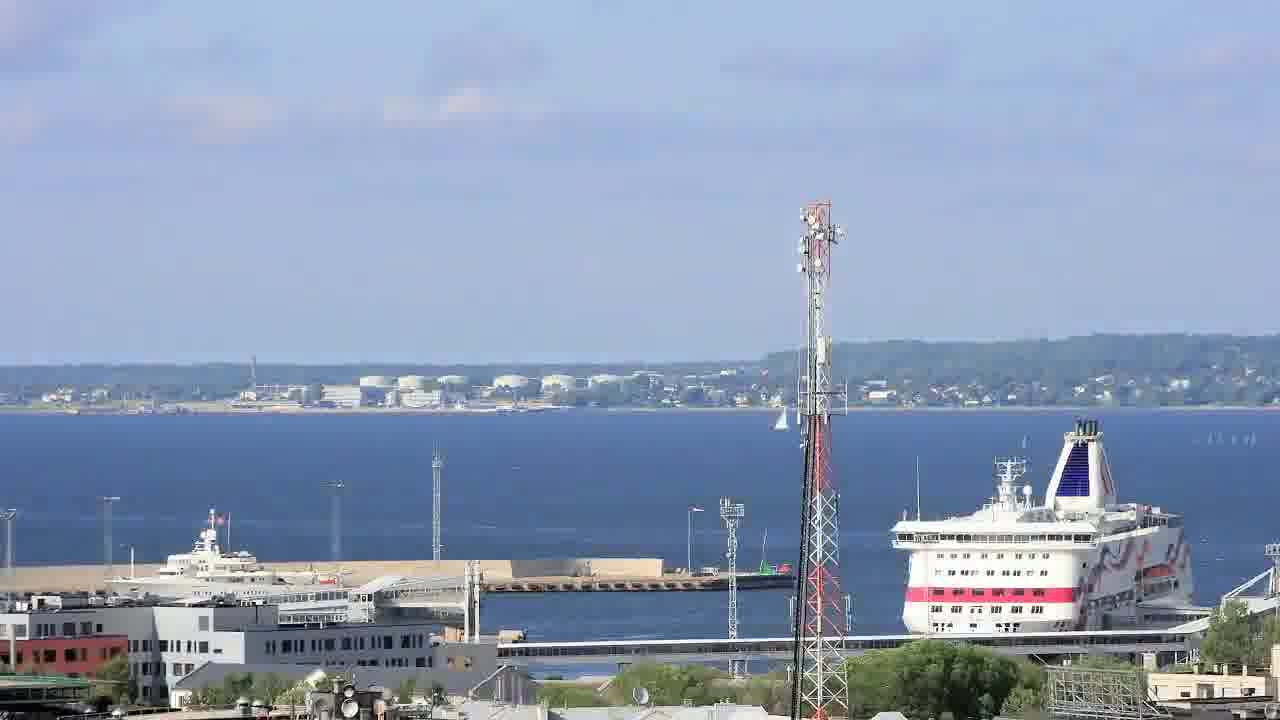type-2: (757, 399, 807, 445)
type-3: (868, 415, 1225, 638), (84, 511, 353, 609)
